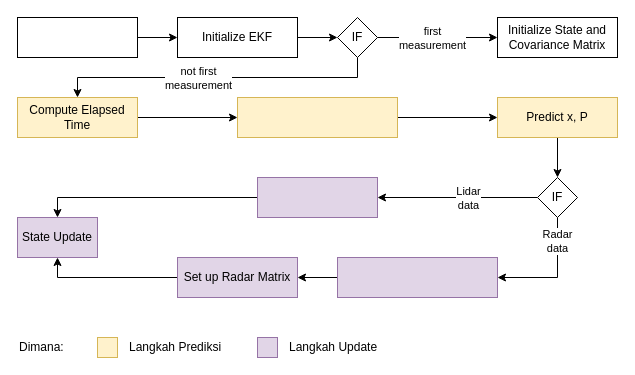
The diagram is 635 pixels wide and 375 high, and some of its shapes have lost their labels. Each missing label, with the centre of its shape:
Linearize measurement function h(x): point (417, 277)
Processed Sensor Data: point (77, 37)
Set up Lidar Matrix: point (317, 197)
Use Elapsed time to compute F, Q Matrix: point (317, 117)
